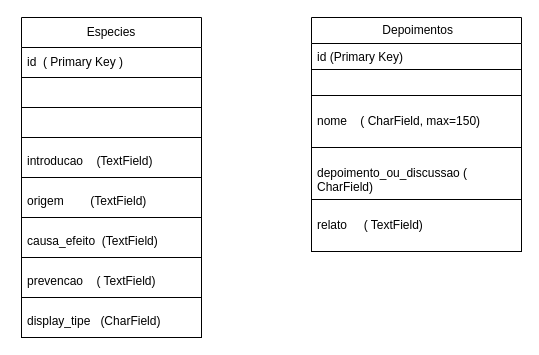
The diagram is 539 pixels wide and 355 high, and some of its shapes have lost their labels. The shapes that lost their labels are listed below. From the top down, each one's centre as x and y in pixels, then its label:
At (x=111, y=92): "nome_especie (CharField, max=150)".
At (x=416, y=82): "email ( EmailField, max=150)".
At (x=111, y=122): "imagem (ImageField)".
